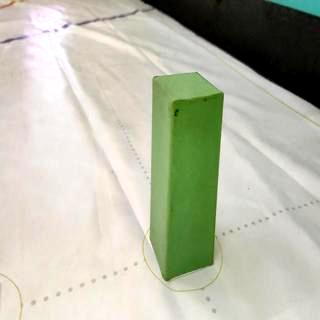greenbox: (151, 70, 223, 281)
